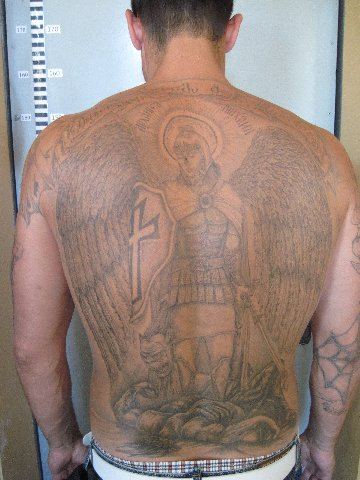tatu1_angel: (87, 125, 303, 357)
